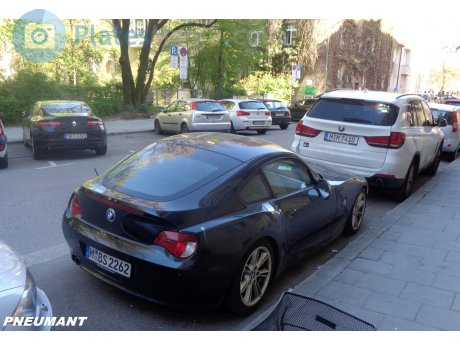License Plates: (91, 247, 131, 273)
